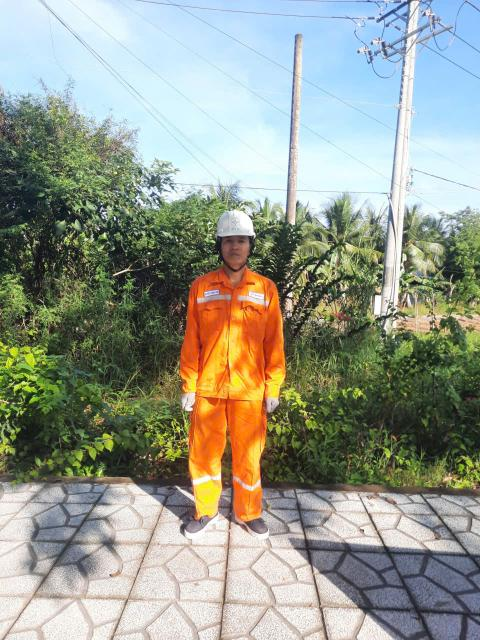gloves: (257, 388, 300, 424), (180, 385, 210, 418)
helmet: (206, 210, 273, 244)
shoes: (170, 503, 237, 543), (234, 502, 284, 546)
